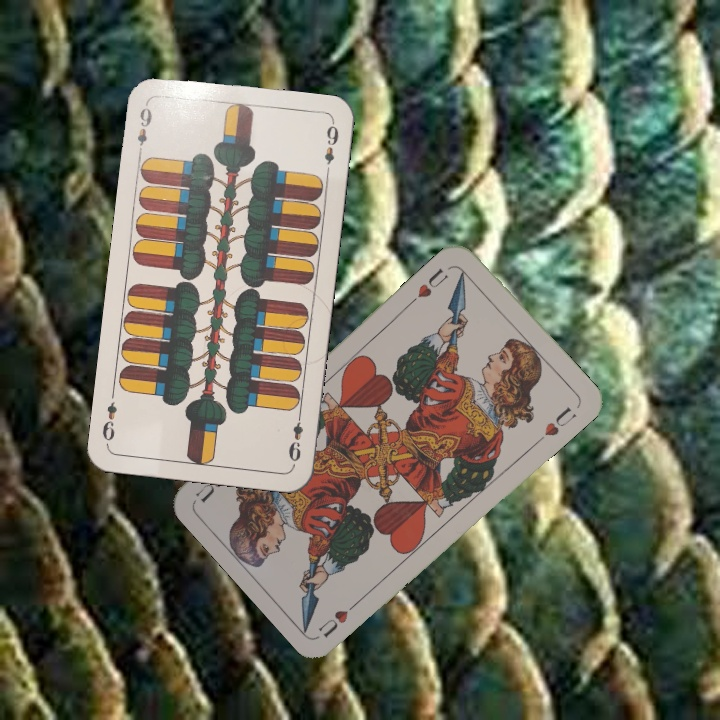E9: (284, 408, 306, 467), (133, 99, 155, 158)
HU: (314, 594, 364, 641), (407, 263, 451, 306)
